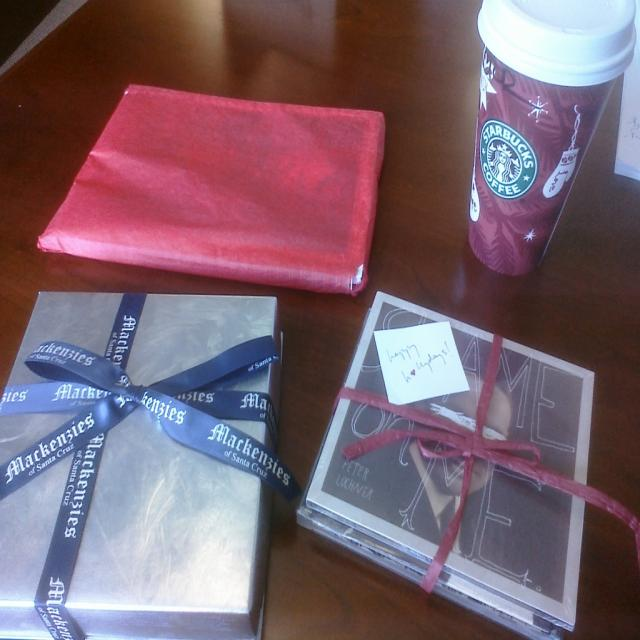Box: (292, 298, 606, 619), (0, 294, 280, 639)
